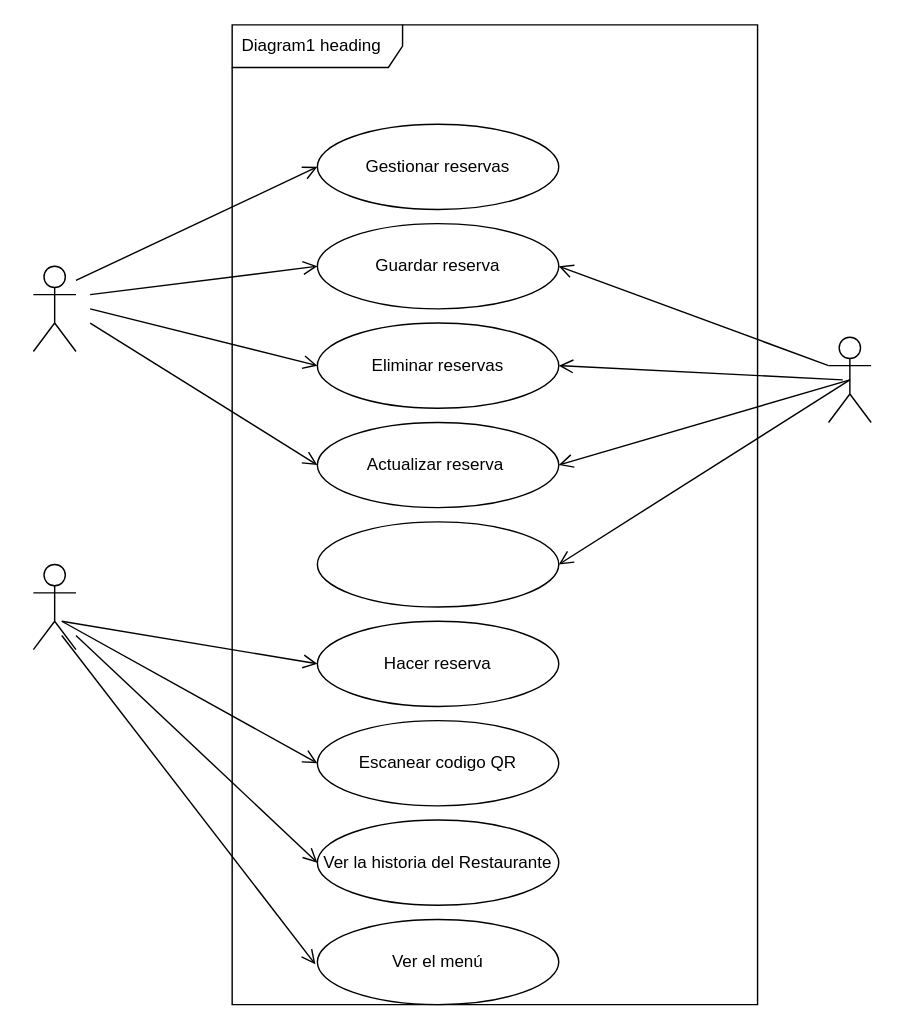
The diagram is 905 pixels wide and 1030 high, and some of its shapes have lost their labels. The centre of each missing label's shape, as x and y in pixels:
"Cliente" belongs at [54,606].
"Genera el código QR" belongs at [437,563].
"Gerente" belongs at [54,308].
"Sistema" belongs at [849,379].
